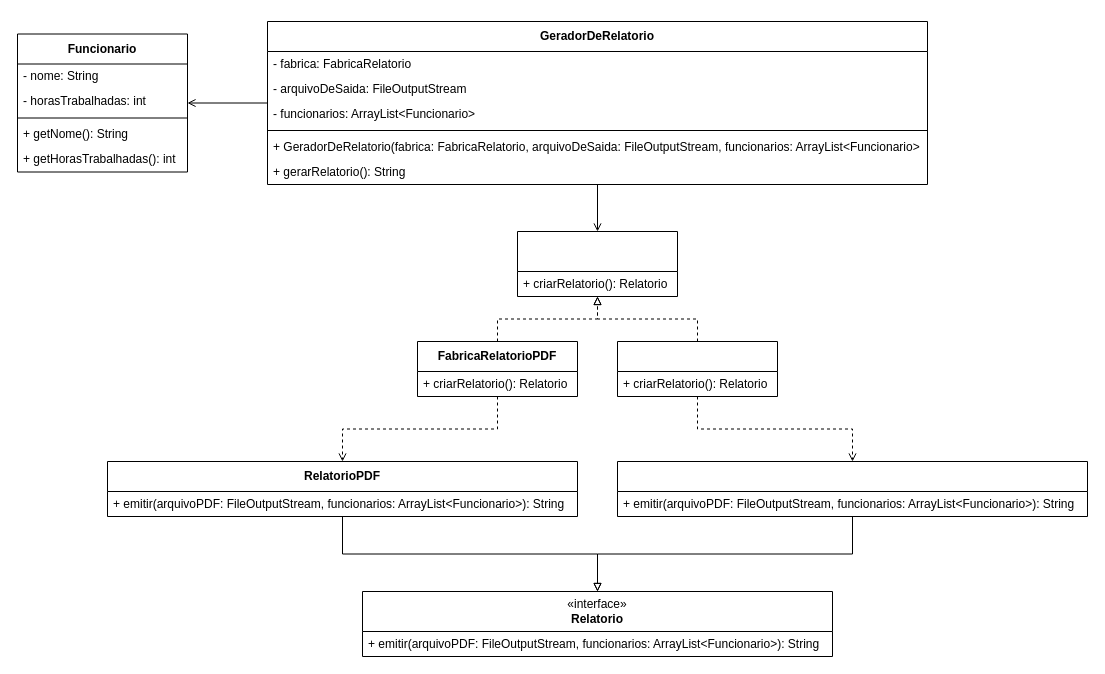
The diagram is 1105 pixels wide and 674 high, and some of its shapes have lost their labels. The shapes that lost their labels are listed below. From the top down, each one's box as (x1, y1, x2, y2) in pixels, then its label:
(516, 230, 678, 296): «interface» FabricaRelatorio
(616, 340, 778, 396): FabricaRelatorioXLSX
(616, 460, 1088, 516): RelatorioXLSX
